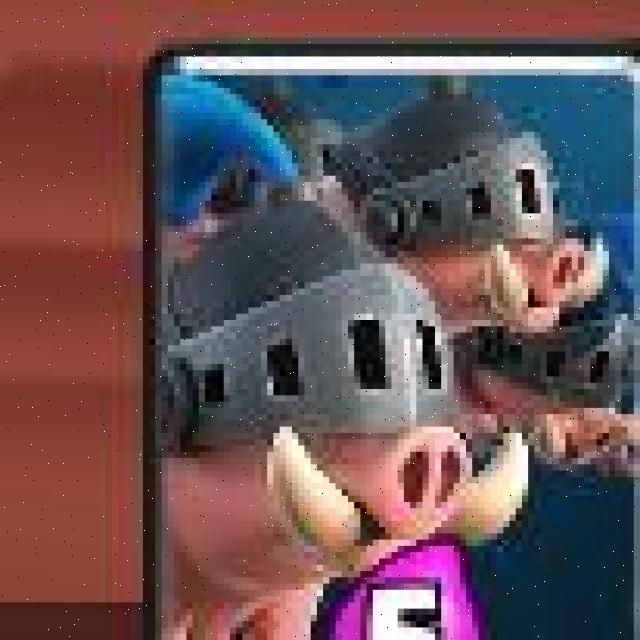Royal_Hogs: (140, 42, 639, 640)
